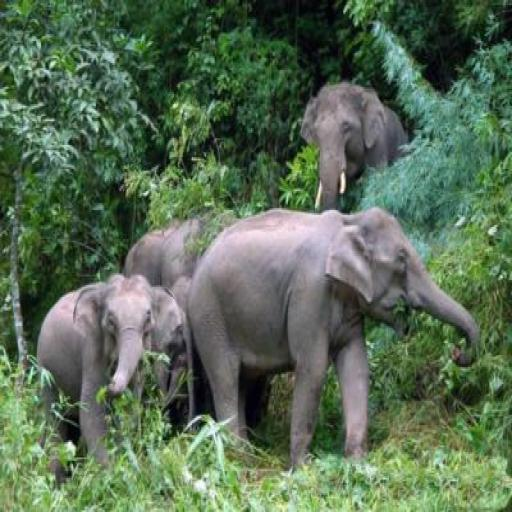Elephant: (191, 194, 486, 483), (19, 273, 173, 483), (120, 168, 219, 414), (290, 66, 414, 206)
